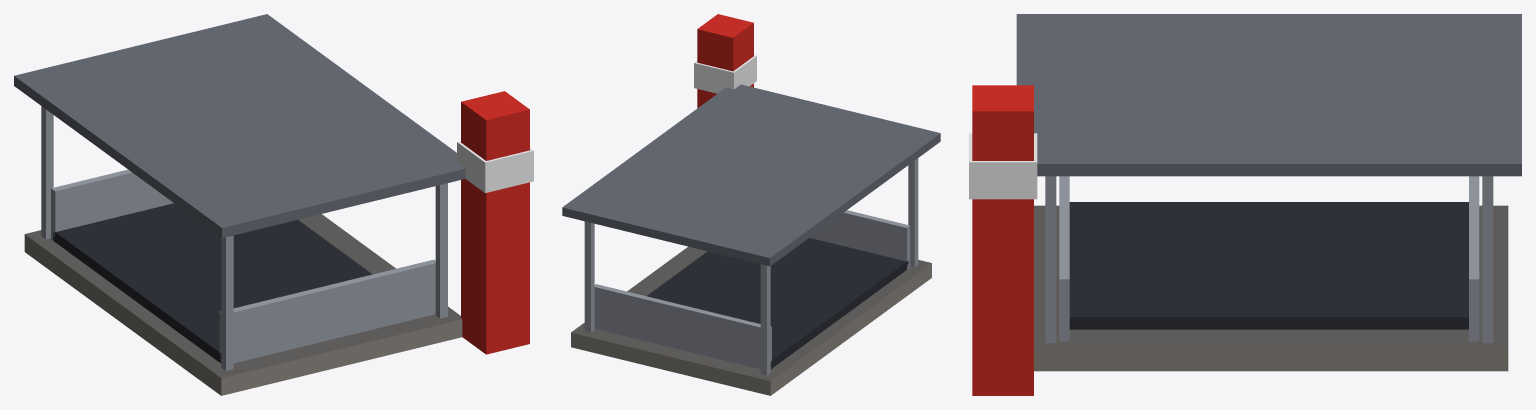
Rendered from entrada_metro.obj.
The picture shows the model from 3 angles, left to right: view 1: azimuth 30°, elevation 25°; view 2: azimuth 150°, elevation 25°; view 3: azimuth 270°, elevation 25°; orthographic projection. The views are drawn at different scales.
Visible parts, largest first — view 1: entrada_metro; view 2: entrada_metro; view 3: entrada_metro.
Part boxes in pixels (x1,y1,x2,y2): entrada_metro: (14, 14, 533, 395); entrada_metro: (562, 14, 940, 395); entrada_metro: (969, 14, 1521, 395).
Bounding box in the file's own units: 6 × 4.6 × 8.1.
